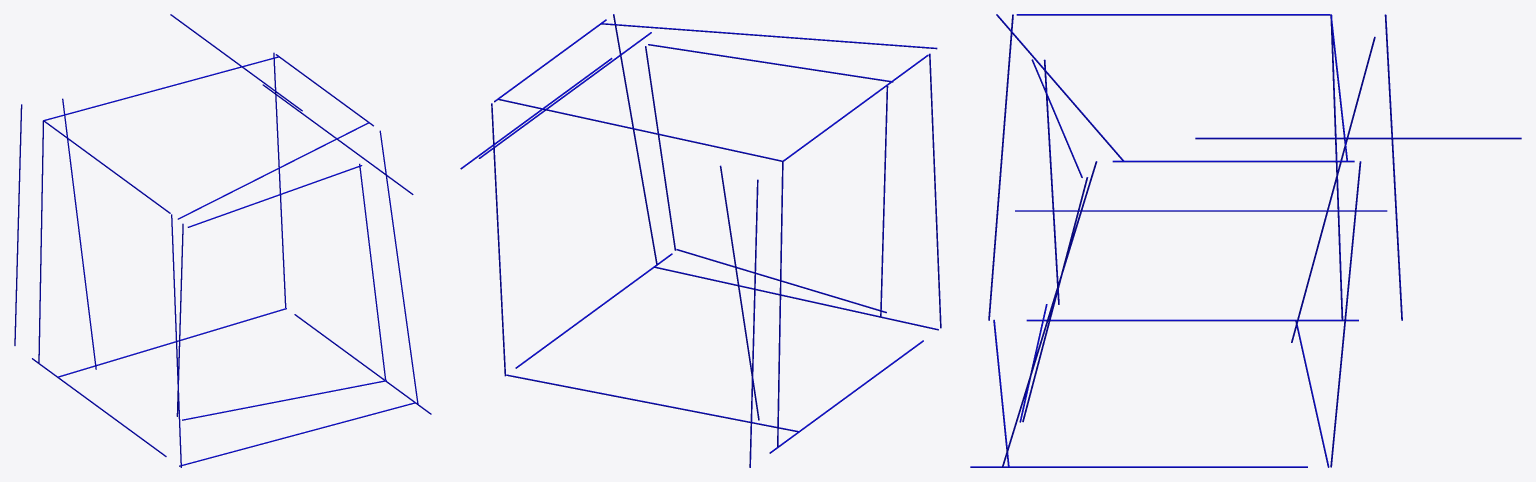
The model's file is corrected_3d_strokes.glb.
3 renders of one model, left to right at view 1: azimuth 30°, elevation 25°; view 2: azimuth 150°, elevation 25°; view 3: azimuth 270°, elevation 25°, orthographic. The views are drawn at different scales.
Parts seen in each view (by area): view 1: world; view 2: world; view 3: world.
Part boxes in pixels (<box>): world: <box>14,14,431,467</box>; world: <box>460,14,941,467</box>; world: <box>970,14,1521,467</box>.
Size of the model in its own units: 7.99 by 7.76 by 12.63.
